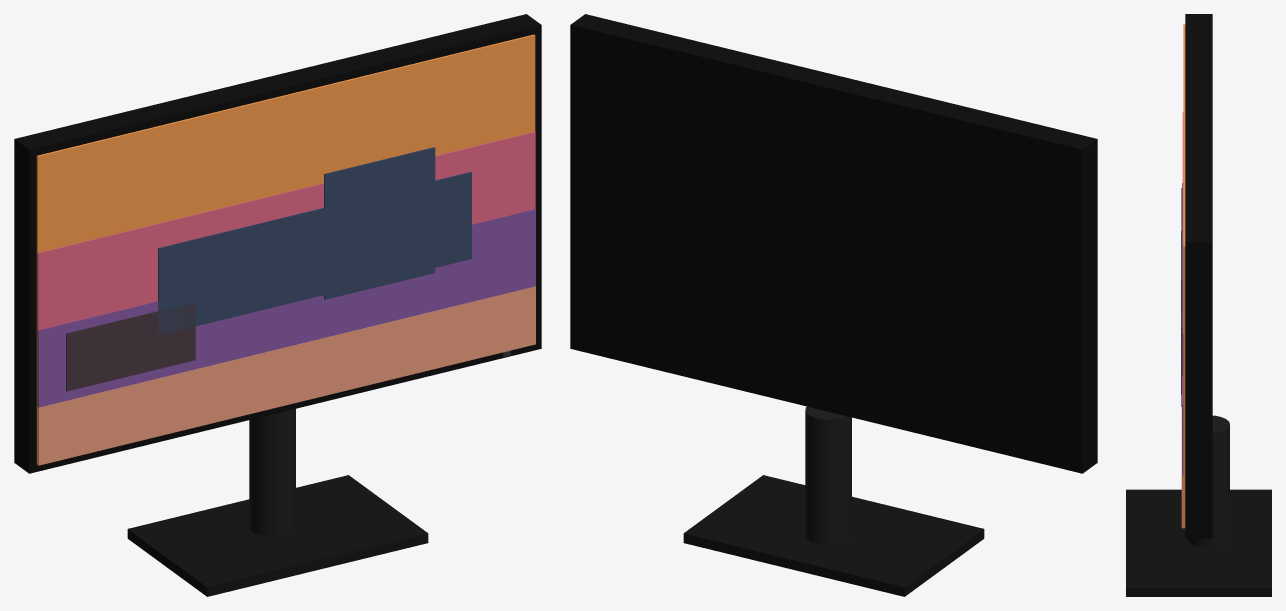
Rendered from 23-monitor-lg-mountain-sunset.glb.
3 renders of one model, left to right at view 1: azimuth 30°, elevation 25°; view 2: azimuth 150°, elevation 25°; view 3: azimuth 270°, elevation 25°, orthographic. The views are drawn at different scales.
Size of the model in its own units: 0.556 by 0.476 by 0.15.
